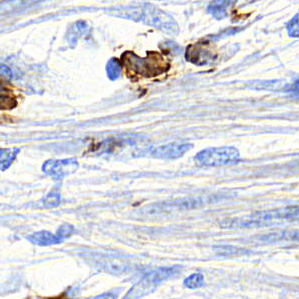Lymphocyte: (115, 49, 173, 80)
